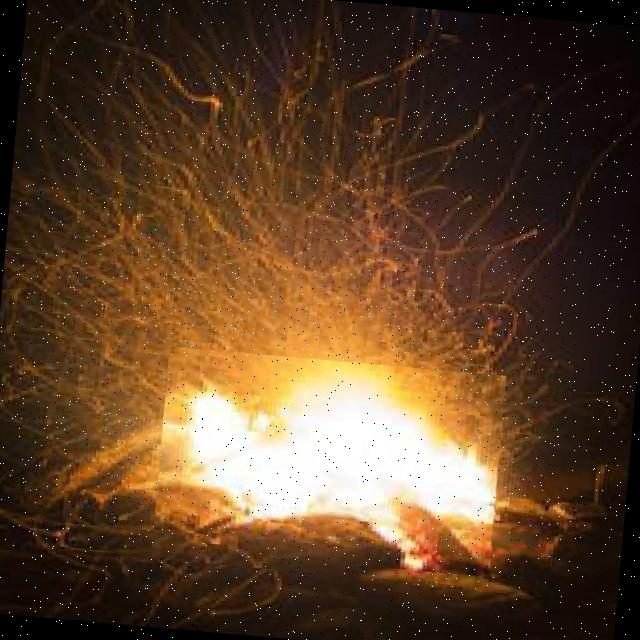fire: (150, 346, 506, 588)
